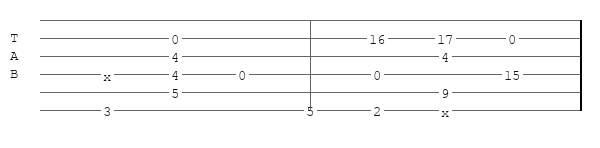0: (171, 32, 183, 45), (238, 68, 250, 81), (373, 68, 385, 81), (508, 32, 520, 45)
15: (504, 68, 524, 81)
16: (369, 32, 389, 45)
17: (437, 32, 457, 45)
2: (373, 104, 385, 117)
3: (103, 104, 115, 117)
4: (171, 68, 183, 81), (171, 50, 183, 63), (441, 50, 453, 63)
5: (171, 86, 183, 99), (306, 104, 318, 117)
9: (441, 86, 453, 99)
x: (103, 69, 115, 79), (441, 105, 453, 115)
